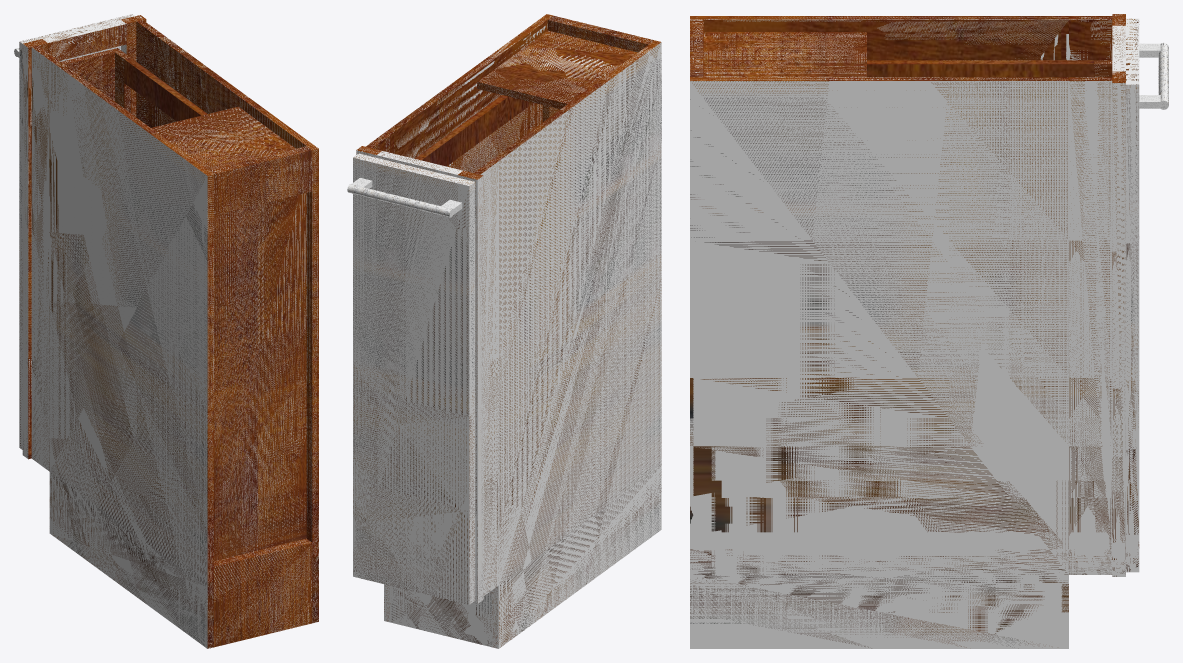
3 renders of one model, left to right at view 1: azimuth 30°, elevation 25°; view 2: azimuth 150°, elevation 25°; view 3: azimuth 270°, elevation 25°, orthographic. The views are drawn at different scales.
Parts seen in each view (by area): view 1: mesh7_mesh7-geometry, mesh4_mesh4-geometry, mesh8_mesh8-geometry, mesh10_mesh10-geometry, mesh12_mesh12-geometry, mesh6_mesh6-geometry, mesh14_mesh14-geometry, mesh2_mesh2-geometry, mesh3_mesh3-geometry, mesh21_mesh21-geometry, mesh15_mesh15-geometry, mesh5_mesh5-geometry (+4 smaller); view 2: mesh7_mesh7-geometry, mesh21_mesh21-geometry, mesh8_mesh8-geometry, mesh10_mesh10-geometry, mesh6_mesh6-geometry, mesh14_mesh14-geometry, mesh2_mesh2-geometry, mesh13_mesh13-geometry, mesh15_mesh15-geometry, mesh3_mesh3-geometry, mesh22_mesh22-geometry, mesh5_mesh5-geometry; view 3: mesh10_mesh10-geometry, mesh11_mesh11-geometry, mesh9_mesh9-geometry, mesh7_mesh7-geometry, mesh21_mesh21-geometry, mesh14_mesh14-geometry, mesh2_mesh2-geometry, mesh15_mesh15-geometry, mesh6_mesh6-geometry, mesh3_mesh3-geometry, mesh22_mesh22-geometry.
Part boxes in pixels (<box>): mesh7_mesh7-geometry: <box>49,58,213,587</box>; mesh4_mesh4-geometry: <box>214,193,306,561</box>; mesh8_mesh8-geometry: <box>49,472,213,648</box>; mesh10_mesh10-geometry: <box>154,33,318,561</box>; mesh12_mesh12-geometry: <box>214,538,312,647</box>; mesh6_mesh6-geometry: <box>31,45,55,471</box>; mesh14_mesh14-geometry: <box>151,106,295,169</box>; mesh2_mesh2-geometry: <box>22,15,146,459</box>; mesh3_mesh3-geometry: <box>208,146,312,215</box>; mesh21_mesh21-geometry: <box>19,14,134,449</box>; mesh15_mesh15-geometry: <box>124,57,207,121</box>; mesh5_mesh5-geometry: <box>43,20,126,60</box>; mesh7_mesh7-geometry: <box>492,40,661,584</box>; mesh21_mesh21-geometry: <box>353,153,475,604</box>; mesh8_mesh8-geometry: <box>492,466,661,648</box>; mesh10_mesh10-geometry: <box>384,14,552,172</box>; mesh6_mesh6-geometry: <box>474,159,498,595</box>; mesh14_mesh14-geometry: <box>477,30,637,109</box>; mesh2_mesh2-geometry: <box>356,146,483,603</box>; mesh13_mesh13-geometry: <box>390,586,491,647</box>; mesh15_mesh15-geometry: <box>415,95,533,166</box>; mesh3_mesh3-geometry: <box>547,15,654,52</box>; mesh22_mesh22-geometry: <box>347,184,453,217</box>; mesh5_mesh5-geometry: <box>376,151,462,177</box>; mesh10_mesh10-geometry: <box>690,77,1068,574</box>; mesh11_mesh11-geometry: <box>690,575,1068,648</box>; mesh9_mesh9-geometry: <box>1069,77,1112,574</box>; mesh7_mesh7-geometry: <box>690,16,1068,60</box>; mesh21_mesh21-geometry: <box>1126,18,1139,572</box>; mesh14_mesh14-geometry: <box>703,32,866,77</box>; mesh2_mesh2-geometry: <box>1112,14,1125,576</box>; mesh15_mesh15-geometry: <box>867,60,1093,77</box>; mesh6_mesh6-geometry: <box>1069,16,1112,60</box>; mesh3_mesh3-geometry: <box>690,19,703,77</box>; mesh22_mesh22-geometry: <box>1158,42,1168,109</box>.
Bounding box in the file's own units: 0.2029 × 0.7779 × 0.5947.
